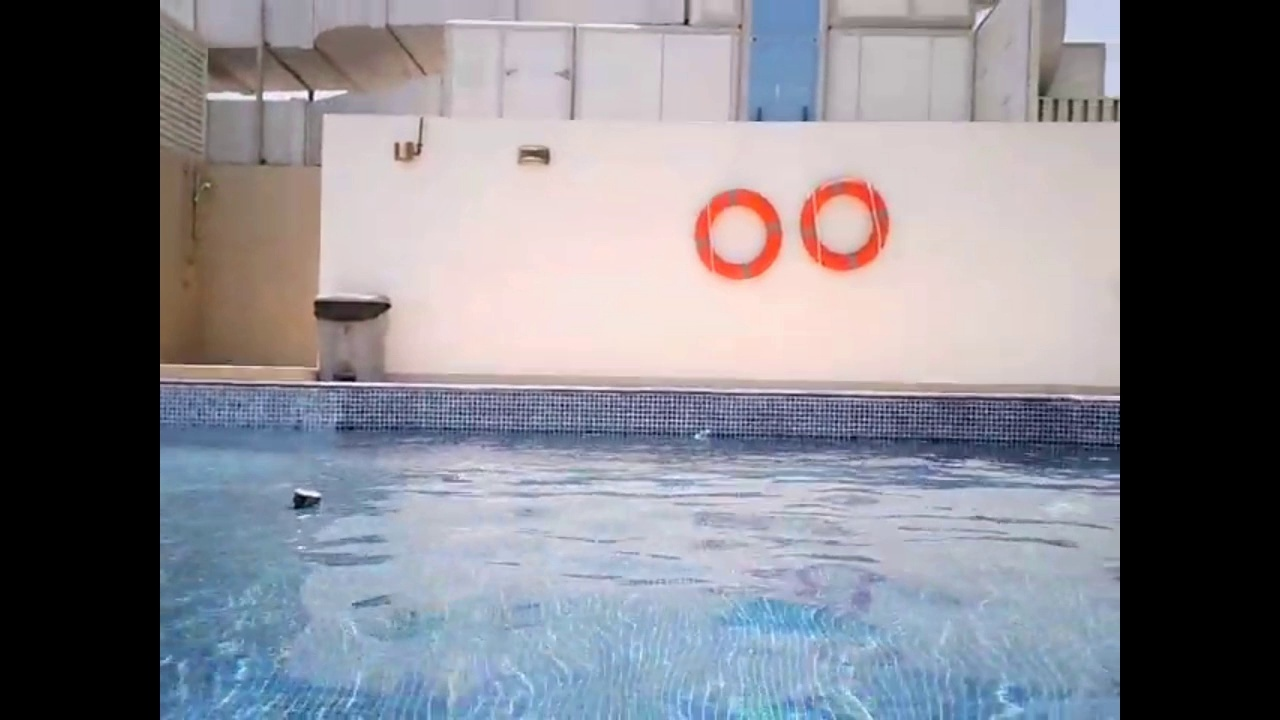debris: (284, 486, 323, 522), (686, 426, 718, 446)
